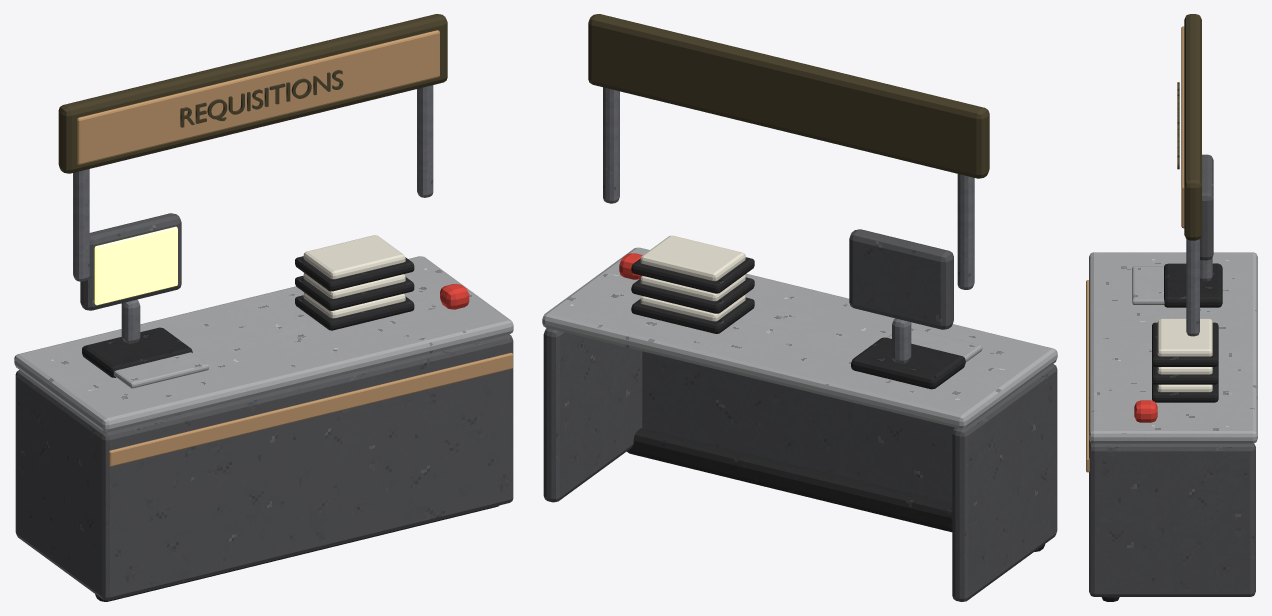
Rendered from decor_cargo_requisitions_desk.glb.
The picture shows the model from 3 angles, left to right: view 1: azimuth 30°, elevation 25°; view 2: azimuth 150°, elevation 25°; view 3: azimuth 270°, elevation 25°; orthographic projection. The views are drawn at different scales.
Parts seen in each view (by area): view 1: DEC_CargoRequisitionsDesk__Counter_Front, DEC_CargoRequisitionsDesk__Counter_Top, DEC_CargoRequisitionsDesk__Sign_Face, DEC_CargoRequisitionsDesk__Counter_End_L, DEC_CargoRequisitionsDesk__Sign_Board, DEC_CargoRequisitionsDesk__Counter_Stripe, DEC_CargoRequisitionsDesk__Terminal_Screen, DEC_CargoRequisitionsDesk__Terminal_Base, DEC_CargoRequisitionsDesk__Dockets_3, DEC_CargoRequisitionsDesk__Terminal_Body, DEC_CargoRequisitionsDesk__Sign_Text, DEC_CargoRequisitionsDesk__Sign_Post_R (+8 smaller); view 2: DEC_CargoRequisitionsDesk__Counter_Top, DEC_CargoRequisitionsDesk__Sign_Board, DEC_CargoRequisitionsDesk__Counter_Front, DEC_CargoRequisitionsDesk__Counter_End_L, DEC_CargoRequisitionsDesk__Counter_End_R, DEC_CargoRequisitionsDesk__Counter_Kick, DEC_CargoRequisitionsDesk__Terminal_Body, DEC_CargoRequisitionsDesk__Terminal_Base, DEC_CargoRequisitionsDesk__Dockets_3, DEC_CargoRequisitionsDesk__Sign_Post_L, DEC_CargoRequisitionsDesk__Sign_Post_R, DEC_CargoRequisitionsDesk__Tray_2 (+6 smaller); view 3: DEC_CargoRequisitionsDesk__Counter_End_R, DEC_CargoRequisitionsDesk__Counter_Top, DEC_CargoRequisitionsDesk__Sign_Board, DEC_CargoRequisitionsDesk__Dockets_3, DEC_CargoRequisitionsDesk__Terminal_Base, DEC_CargoRequisitionsDesk__Counter_Front, DEC_CargoRequisitionsDesk__Sign_Post_R, DEC_CargoRequisitionsDesk__Terminal_Body, DEC_CargoRequisitionsDesk__Keyboard, DEC_CargoRequisitionsDesk__Tray_3, DEC_CargoRequisitionsDesk__Tray_1, DEC_CargoRequisitionsDesk__Tray_2 (+7 smaller).
Boxes of the visible parts, bbox=[...] form: DEC_CargoRequisitionsDesk__Counter_Front: bbox=[99, 334, 513, 600]; DEC_CargoRequisitionsDesk__Counter_Top: bbox=[14, 256, 513, 431]; DEC_CargoRequisitionsDesk__Sign_Face: bbox=[77, 30, 439, 164]; DEC_CargoRequisitionsDesk__Counter_End_L: bbox=[15, 370, 105, 597]; DEC_CargoRequisitionsDesk__Sign_Board: bbox=[58, 14, 447, 173]; DEC_CargoRequisitionsDesk__Counter_Stripe: bbox=[108, 353, 512, 466]; DEC_CargoRequisitionsDesk__Terminal_Screen: bbox=[94, 226, 177, 305]; DEC_CargoRequisitionsDesk__Terminal_Base: bbox=[82, 327, 192, 377]; DEC_CargoRequisitionsDesk__Dockets_3: bbox=[303, 235, 405, 279]; DEC_CargoRequisitionsDesk__Terminal_Body: bbox=[80, 213, 181, 310]; DEC_CargoRequisitionsDesk__Sign_Text: bbox=[180, 70, 343, 127]; DEC_CargoRequisitionsDesk__Sign_Post_R: bbox=[417, 85, 433, 197]; DEC_CargoRequisitionsDesk__Counter_Top: bbox=[542, 247, 1057, 428]; DEC_CargoRequisitionsDesk__Sign_Board: bbox=[588, 14, 989, 178]; DEC_CargoRequisitionsDesk__Counter_Front: bbox=[642, 351, 1057, 538]; DEC_CargoRequisitionsDesk__Counter_End_L: bbox=[952, 366, 1053, 601]; DEC_CargoRequisitionsDesk__Counter_End_R: bbox=[543, 328, 642, 502]; DEC_CargoRequisitionsDesk__Counter_Kick: bbox=[627, 428, 1045, 551]; DEC_CargoRequisitionsDesk__Terminal_Body: bbox=[849, 229, 953, 329]; DEC_CargoRequisitionsDesk__Terminal_Base: bbox=[851, 337, 965, 389]; DEC_CargoRequisitionsDesk__Dockets_3: bbox=[640, 235, 745, 281]; DEC_CargoRequisitionsDesk__Sign_Post_L: bbox=[957, 174, 974, 289]; DEC_CargoRequisitionsDesk__Sign_Post_R: bbox=[603, 87, 619, 203]; DEC_CargoRequisitionsDesk__Tray_2: bbox=[631, 277, 754, 313]; DEC_CargoRequisitionsDesk__Counter_End_R: bbox=[1096, 443, 1255, 596]; DEC_CargoRequisitionsDesk__Counter_Top: bbox=[1089, 252, 1257, 443]; DEC_CargoRequisitionsDesk__Sign_Board: bbox=[1184, 14, 1201, 240]; DEC_CargoRequisitionsDesk__Dockets_3: bbox=[1157, 318, 1212, 356]; DEC_CargoRequisitionsDesk__Terminal_Base: bbox=[1164, 263, 1222, 307]; DEC_CargoRequisitionsDesk__Counter_Front: bbox=[1089, 439, 1099, 596]; DEC_CargoRequisitionsDesk__Sign_Post_R: bbox=[1186, 239, 1199, 336]; DEC_CargoRequisitionsDesk__Terminal_Body: bbox=[1200, 154, 1213, 260]; DEC_CargoRequisitionsDesk__Keyboard: bbox=[1132, 266, 1164, 304]; DEC_CargoRequisitionsDesk__Tray_3: bbox=[1152, 322, 1218, 366]; DEC_CargoRequisitionsDesk__Tray_1: bbox=[1152, 382, 1218, 402]; DEC_CargoRequisitionsDesk__Tray_2: bbox=[1152, 364, 1218, 384].
Size of the model in its own units: 2.2 by 2.35 by 0.875.
Materials: 9 (4 with a texture image).
